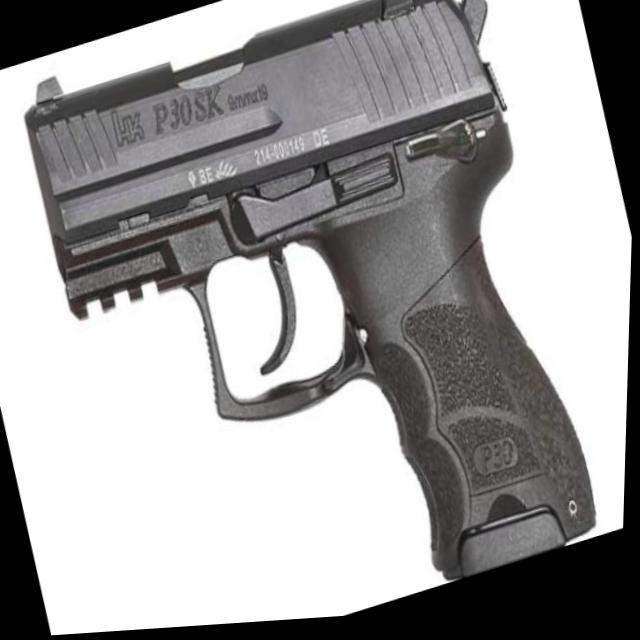weapon: (1, 0, 622, 639)
